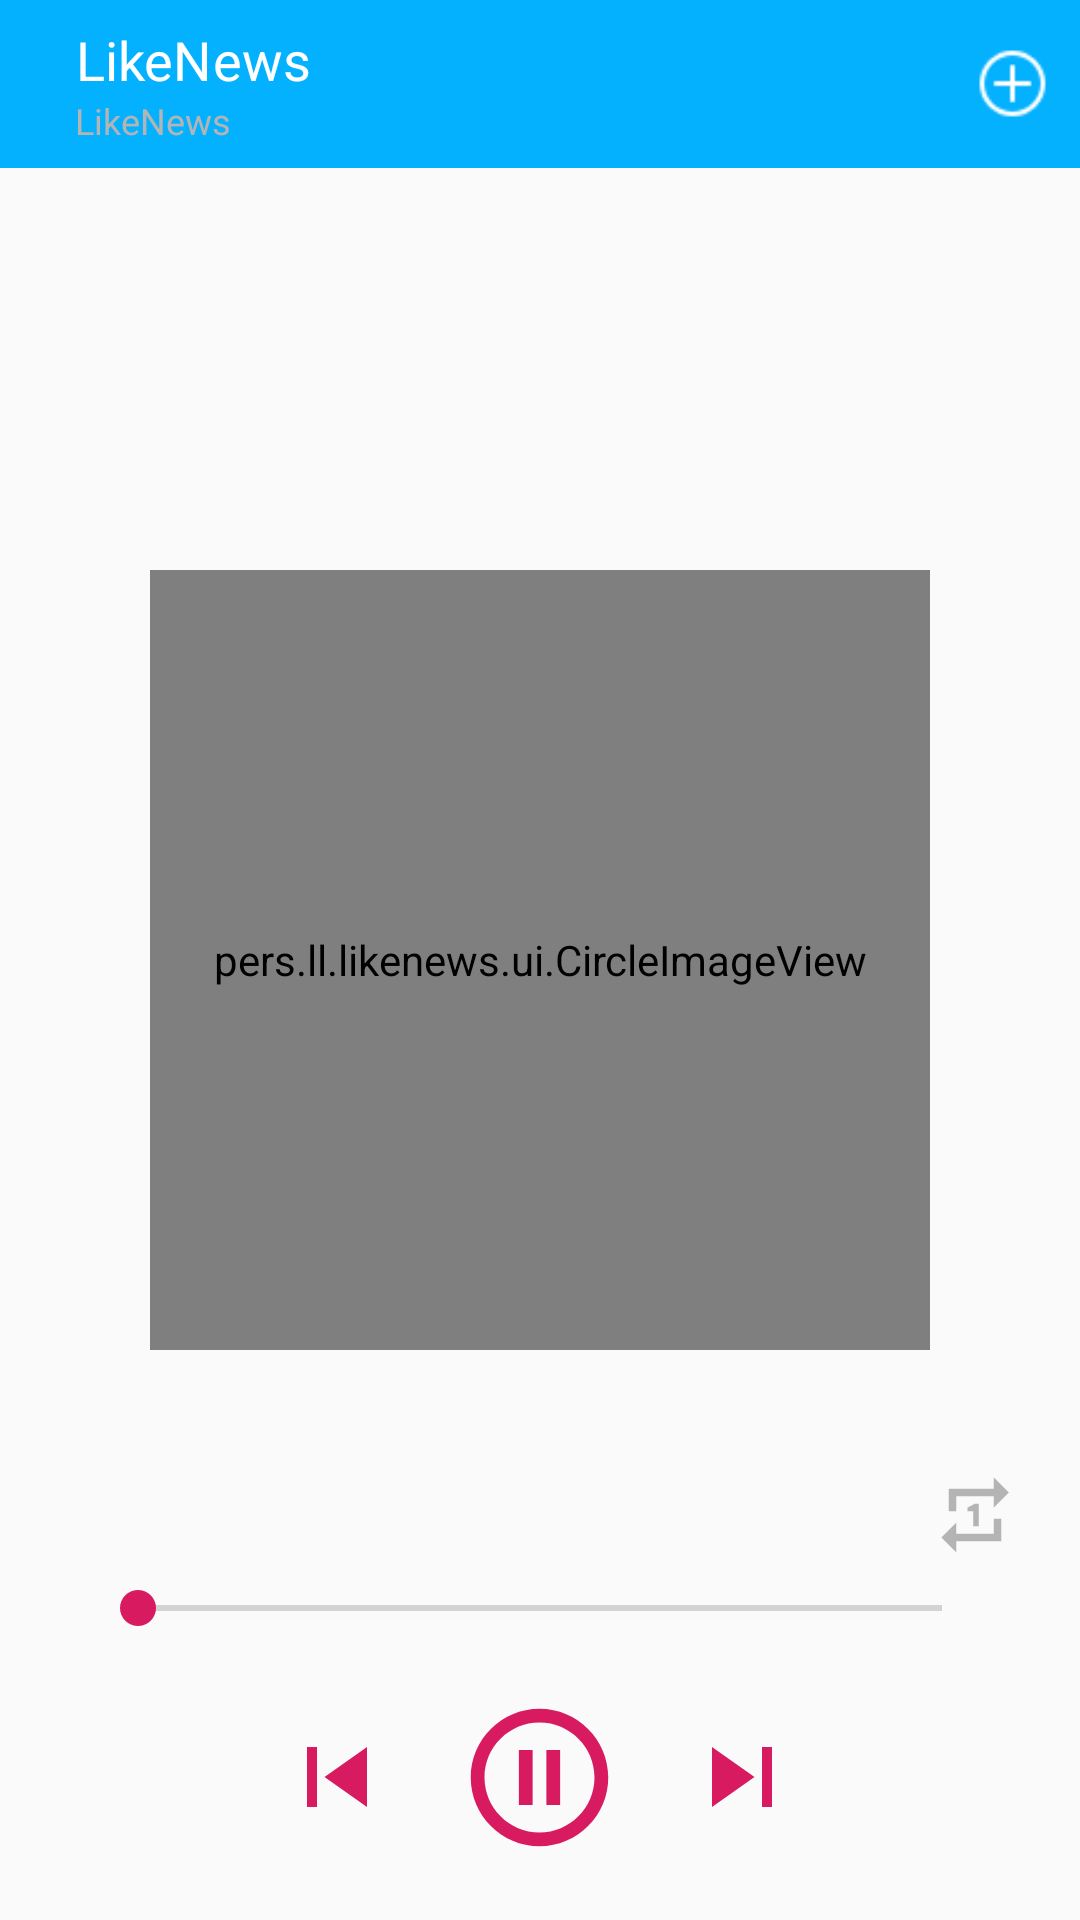

Icon bounding boxes for this 1080 x 1920 phone screenshot, format region(x1, y1, x2, y2):
pause circle: region(470, 1708, 609, 1847)
repeat one: region(941, 1478, 1009, 1552)
skip next: region(712, 1747, 772, 1807)
skip previous: region(307, 1747, 367, 1807)
